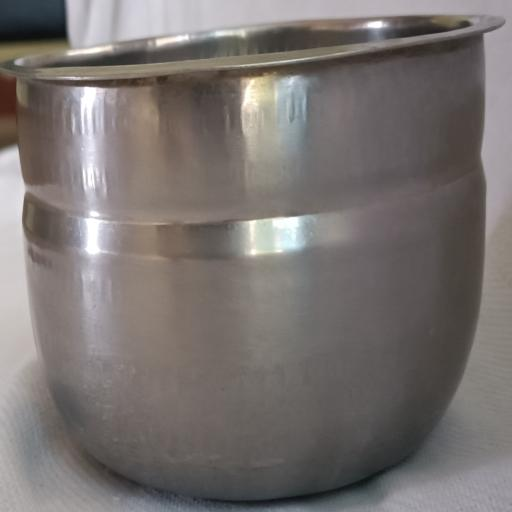vessel: (4, 16, 503, 499)
